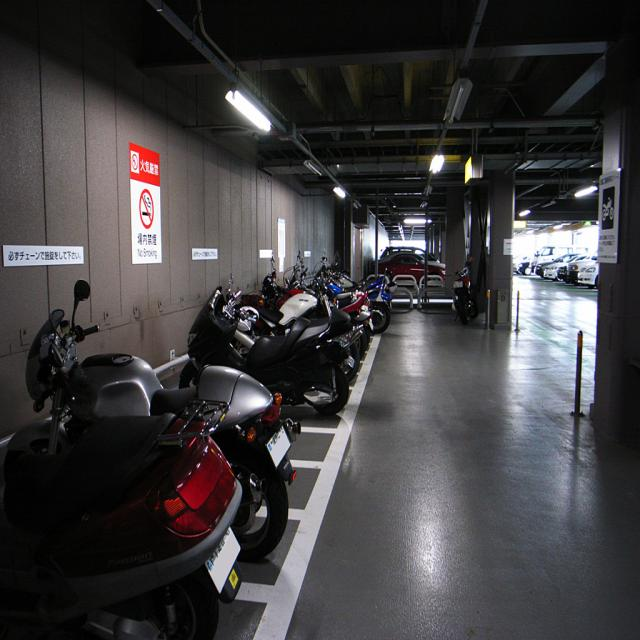Motorbikes: (181, 288, 355, 417)
